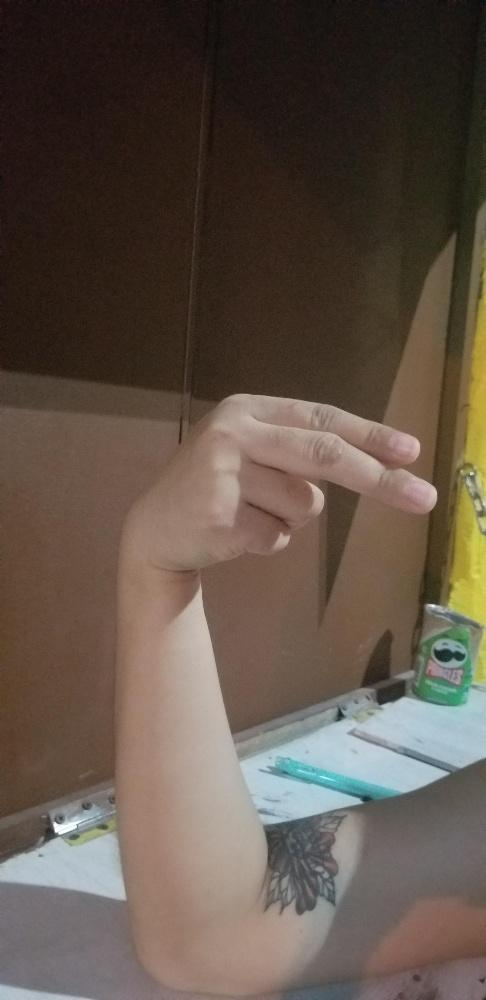h: (122, 390, 439, 567)
